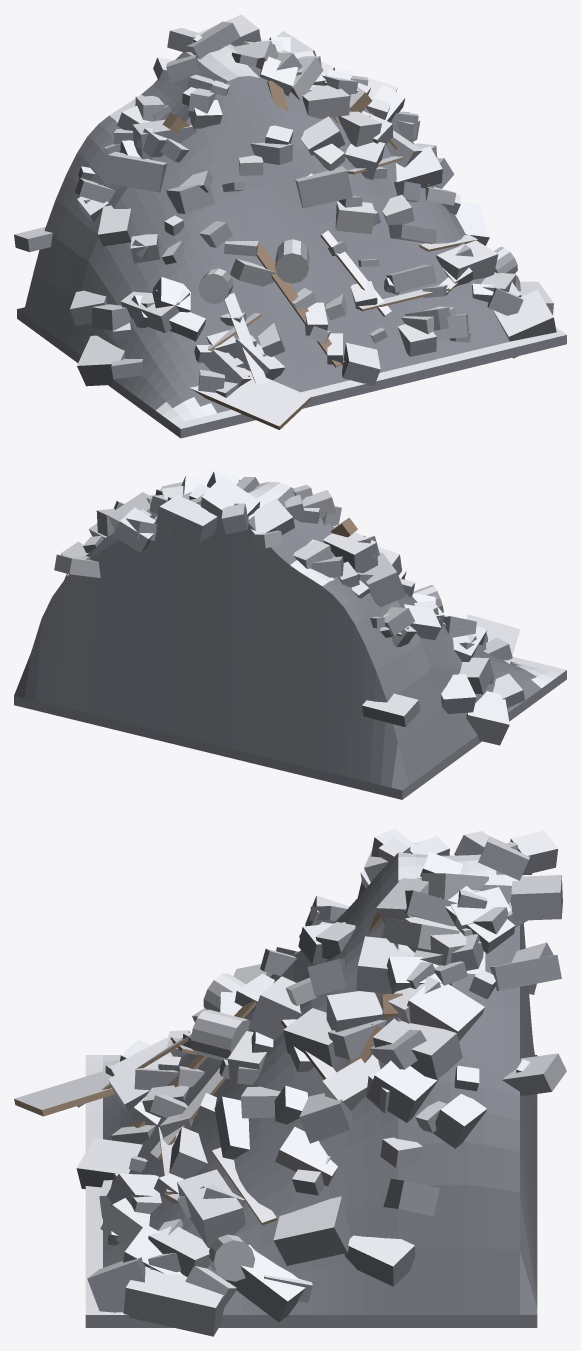
Rendered from PR_Bloqueio_Catedral.fbx.
3 views of the same model, one above another, from view 1: azimuth 30°, elevation 25°; view 2: azimuth 150°, elevation 25°; view 3: azimuth 270°, elevation 25° (orthographic). The views are drawn at different scales.
Visible parts, largest first — view 1: PR_Bloqueio_Catedral; view 2: PR_Bloqueio_Catedral; view 3: PR_Bloqueio_Catedral.
Boxes of the visible parts, box(x1,y1,x2,y2) form: PR_Bloqueio_Catedral: box(14, 14, 566, 438); PR_Bloqueio_Catedral: box(14, 467, 566, 799); PR_Bloqueio_Catedral: box(14, 828, 566, 1336).
Bounding box in the file's own units: 14.2 × 8.65 × 11.51.
